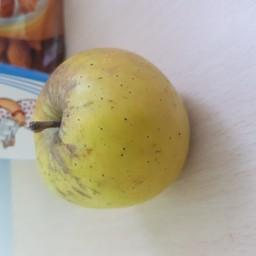Bad_apple: (25, 46, 193, 209)
